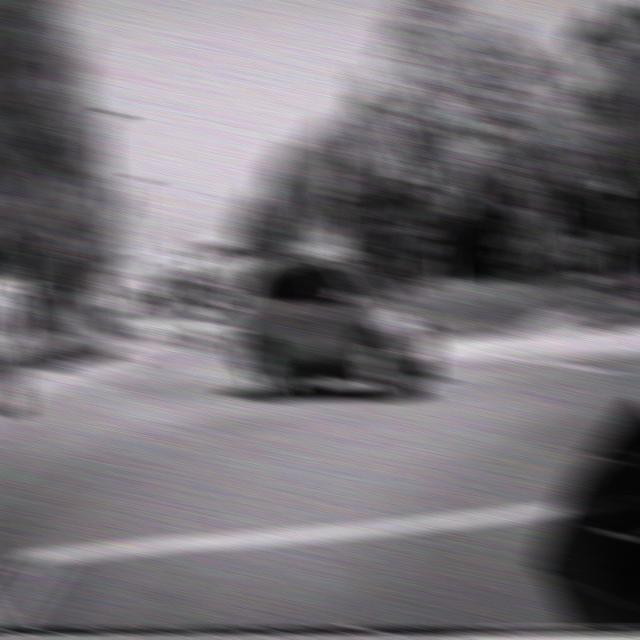speedLimit25: (323, 233, 345, 260)
